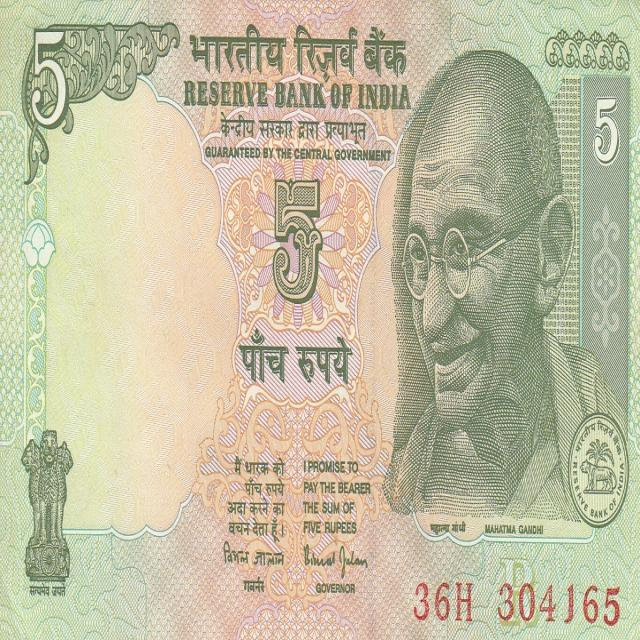5IndianRupees: (5, 6, 633, 638)
